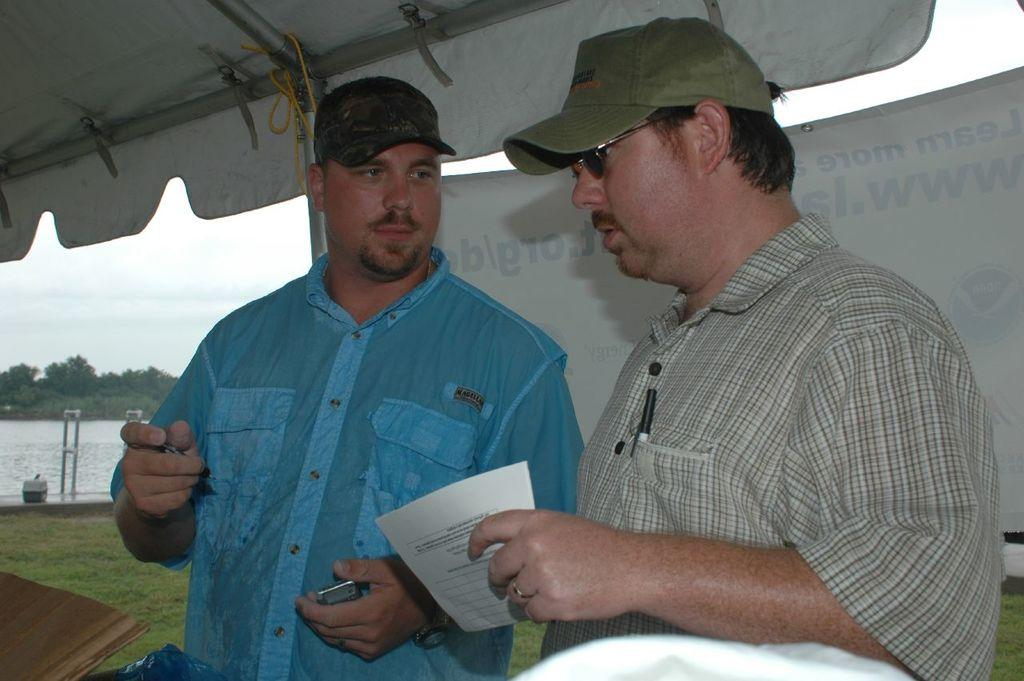Hat: (502, 17, 774, 176), (314, 75, 460, 170)
